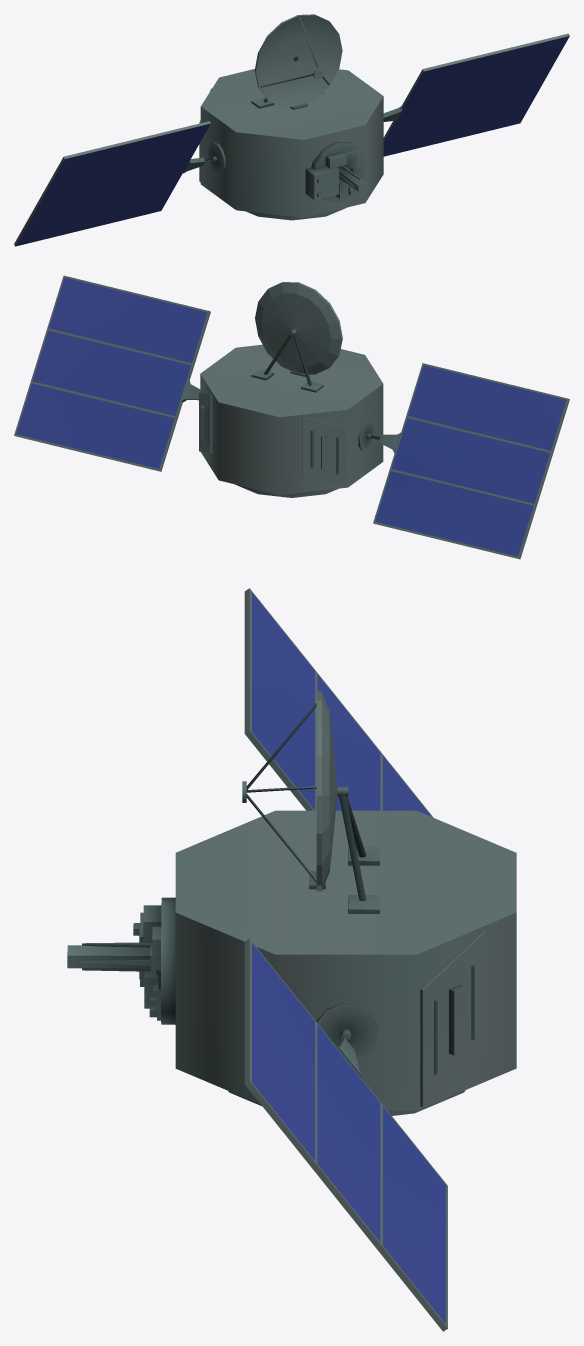
3 renders of one model, top to bottom at view 1: azimuth 30°, elevation 25°; view 2: azimuth 150°, elevation 25°; view 3: azimuth 270°, elevation 25°, orthographic. The views are drawn at different scales.
Parts seen in each view (by area): view 1: refl.101; view 2: refl.101; view 3: refl.101.
Boxes of the visible parts, x1,y1,x2,y2 form: refl.101: [14, 14, 569, 246]; refl.101: [14, 275, 569, 559]; refl.101: [67, 588, 516, 1331].
Size of the model in its own units: 0.5 by 0.1819 by 0.1925.
